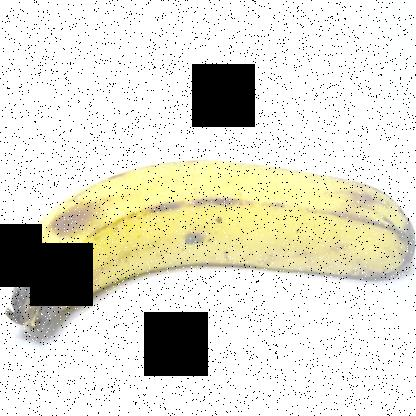ripe: (2, 136, 415, 345)
